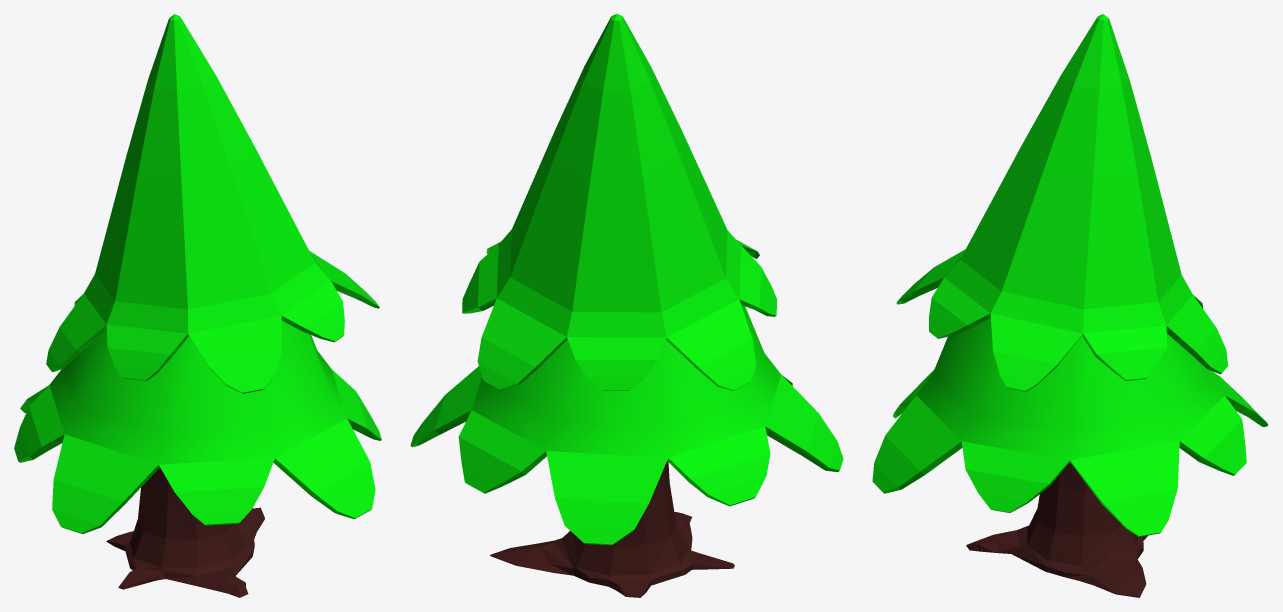
File: 2_Munt.FBX
3 renders of one model, left to right at view 1: azimuth 30°, elevation 25°; view 2: azimuth 150°, elevation 25°; view 3: azimuth 270°, elevation 25°, orthographic. The views are drawn at different scales.
Visible parts, largest first — view 1: 2Levls002; view 2: 2Levls002; view 3: 2Levls002.
Boxes of the visible parts, x1,y1,x2,y2 form: 2Levls002: (14,14,381,597); 2Levls002: (410,14,843,597); 2Levls002: (872,14,1268,597).
Bounding box in the file's own units: 1.26 × 1.89 × 1.27.
